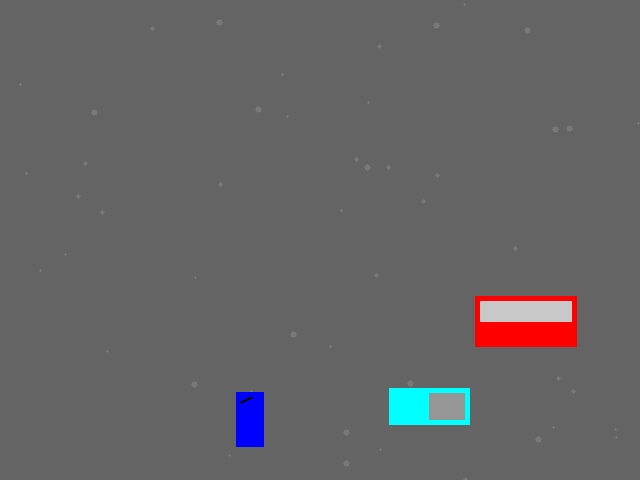car: (475, 296, 576, 346)
motorcycle: (236, 392, 263, 446)
truck: (389, 388, 469, 424)
